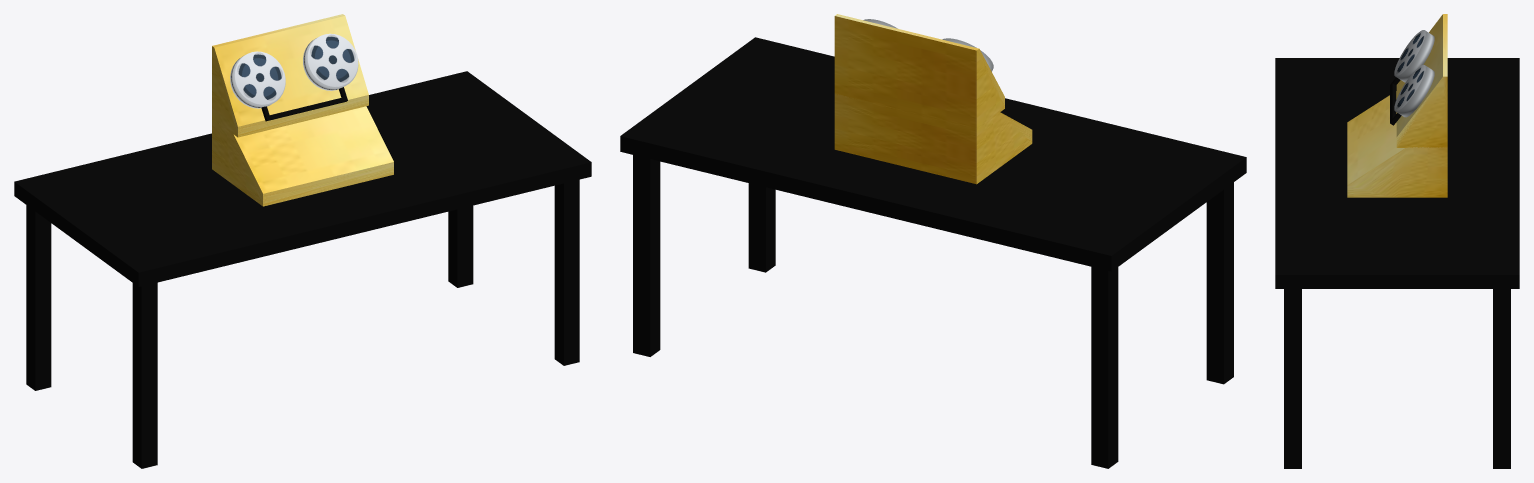
The model's file is mesa2.obj.
The picture shows the model from 3 angles, left to right: view 1: azimuth 30°, elevation 25°; view 2: azimuth 150°, elevation 25°; view 3: azimuth 270°, elevation 25°; orthographic projection. The views are drawn at different scales.
Parts seen in each view (by area): view 1: Cube, Cube.005, Cube.006, Cube.004, Cube.003, Cube.002, Cylinder, Cylinder.001, Cube.001, Cube.007; view 2: Cube, Cube.006, Cube.005, Cube.002, Cube.001, Cube.004, Cube.003; view 3: Cube, Cube.005, Cube.006, Cube.001, Cube.003, Cylinder, Cylinder.001, Cube.007.
Boxes of the visible parts, x1=… form: Cube: x1=14, y1=71, x2=591, y2=286; Cube.005: x1=212, y1=106, x2=393, y2=206; Cube.006: x1=212, y1=14, x2=368, y2=137; Cube.004: x1=132, y1=282, x2=157, y2=468; Cube.003: x1=554, y1=179, x2=579, y2=365; Cube.002: x1=26, y1=205, x2=51, y2=390; Cylinder: x1=303, y1=33, x2=358, y2=90; Cylinder.001: x1=230, y1=51, x2=285, y2=108; Cube.001: x1=448, y1=205, x2=473, y2=287; Cube.007: x1=261, y1=87, x2=347, y2=121; Cube: x1=620, y1=37, x2=1246, y2=271; Cube.006: x1=834, y1=14, x2=1004, y2=128; Cube.005: x1=834, y1=93, x2=1032, y2=184; Cube.002: x1=1091, y1=267, x2=1118, y2=468; Cube.001: x1=633, y1=155, x2=660, y2=356; Cube.004: x1=1206, y1=182, x2=1233, y2=384; Cube.003: x1=748, y1=183, x2=775, y2=272; Cube: x1=1275, y1=58, x2=1519, y2=288; Cube.005: x1=1347, y1=91, x2=1447, y2=197; Cube.006: x1=1396, y1=14, x2=1447, y2=147; Cube.001: x1=1493, y1=289, x2=1510, y2=468; Cube.003: x1=1284, y1=289, x2=1301, y2=468; Cylinder: x1=1394, y1=64, x2=1434, y2=117; Cylinder.001: x1=1394, y1=30, x2=1434, y2=82; Cube.007: x1=1390, y1=77, x2=1401, y2=125.
Bounding box in the file's own units: 18.67 × 12.78 × 8.89.
Materials: 10 (10 with a texture image).
